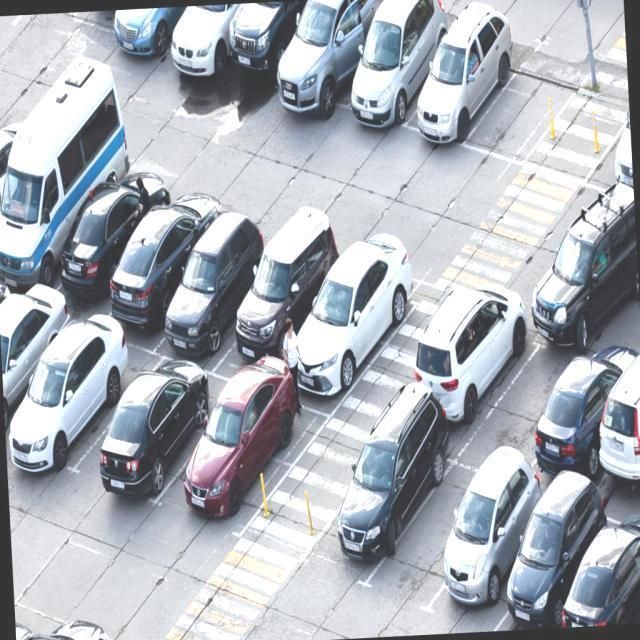space-empty: (367, 455, 477, 591), (466, 348, 581, 458), (470, 47, 558, 171)
space-occupied: (165, 380, 304, 517), (86, 353, 216, 498), (312, 438, 446, 574), (1, 337, 134, 474), (0, 151, 108, 294), (426, 481, 534, 613), (106, 215, 214, 338), (218, 253, 335, 366), (285, 282, 408, 388), (160, 234, 263, 360), (495, 508, 601, 628), (285, 0, 389, 118), (528, 346, 623, 473), (409, 44, 512, 159), (412, 318, 532, 416), (53, 197, 157, 302), (345, 19, 450, 120), (0, 303, 61, 435), (226, 0, 310, 78), (170, 3, 258, 76), (558, 551, 640, 627), (599, 369, 640, 497), (0, 126, 36, 249)
